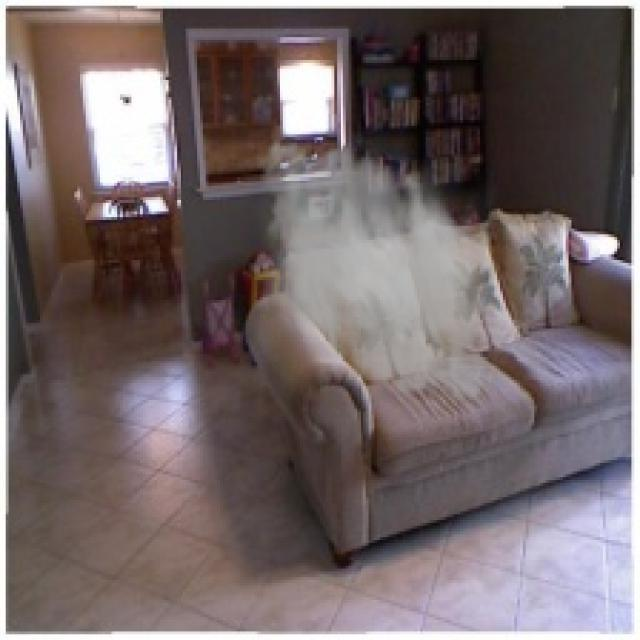Smoke: (237, 128, 506, 412)
